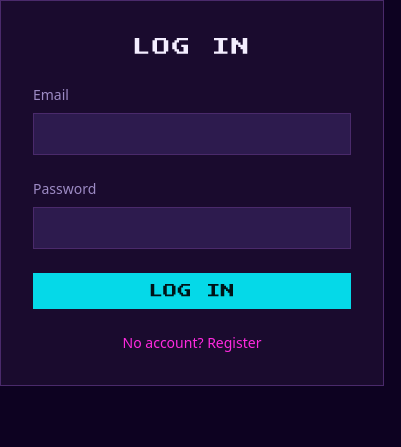
Scenario: LoginPage › displays the error message when login fails
The image size is (401, 447).
Type "x@x.com" into the field labelled "Email" at (192, 134), box [33,113,351,155]
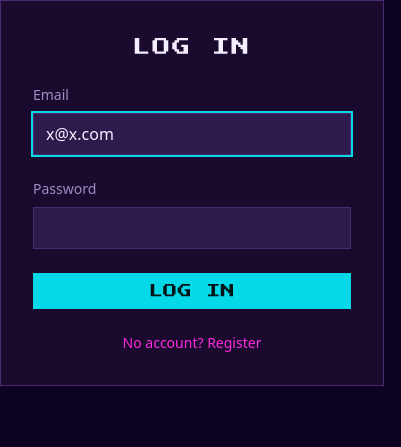
Type "wrongpass" into the password field labelled "Password" at (192, 228), box [33,207,351,249]
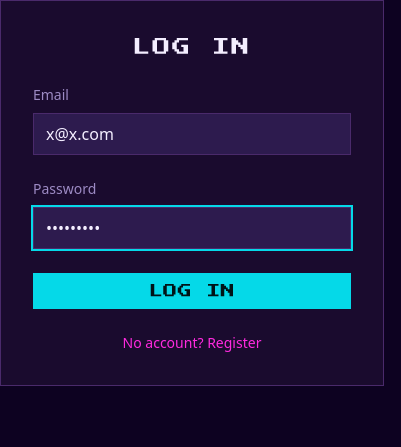
Click the button "Log In" at (192, 291), box [33,273,351,309]
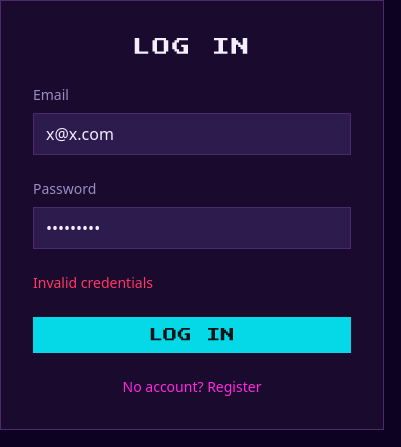
Expected: the text "Invalid credentials" is shown, [33,273,153,292]
